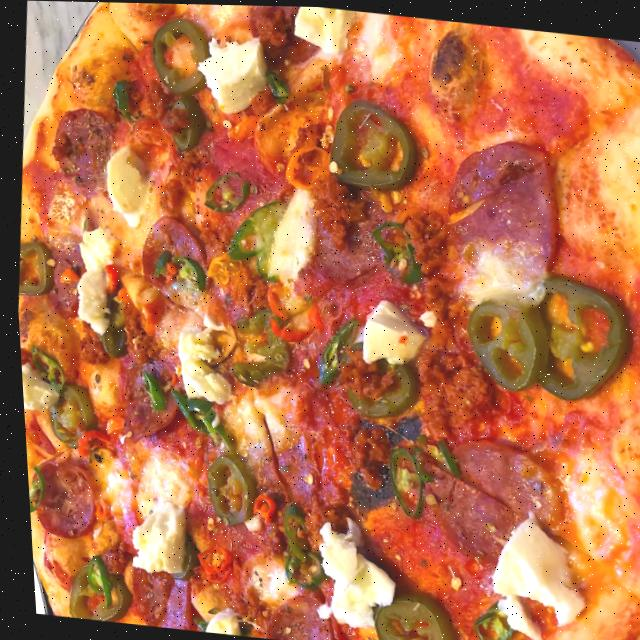pepperoni: (427, 426, 567, 558), (438, 130, 565, 271), (297, 192, 387, 290), (128, 210, 214, 307), (44, 105, 123, 201), (103, 352, 180, 443), (118, 549, 192, 630), (23, 457, 95, 539), (246, 582, 340, 640), (193, 265, 253, 327), (37, 245, 84, 318)
pizza: (0, 0, 640, 640)
